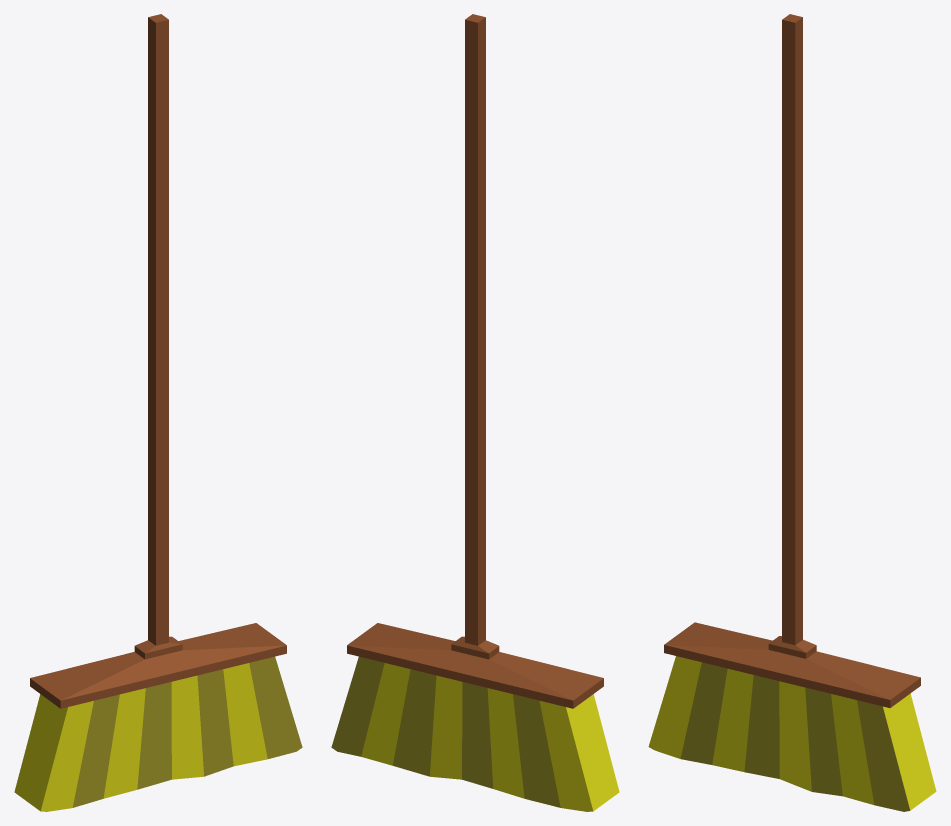
The model's file is Broom.fbx.
The picture shows the model from 3 angles, left to right: view 1: azimuth 30°, elevation 25°; view 2: azimuth 150°, elevation 25°; view 3: azimuth 330°, elevation 25°; orthographic projection.
Parts seen in each view (by area): view 1: Cube; view 2: Cube; view 3: Cube.
Boxes of the visible parts, x1,y1,x2,y2 form: Cube: (14, 14, 302, 811); Cube: (331, 14, 619, 811); Cube: (648, 14, 936, 811).
Size of the model in its own units: 61.49 by 170 by 12.52.
